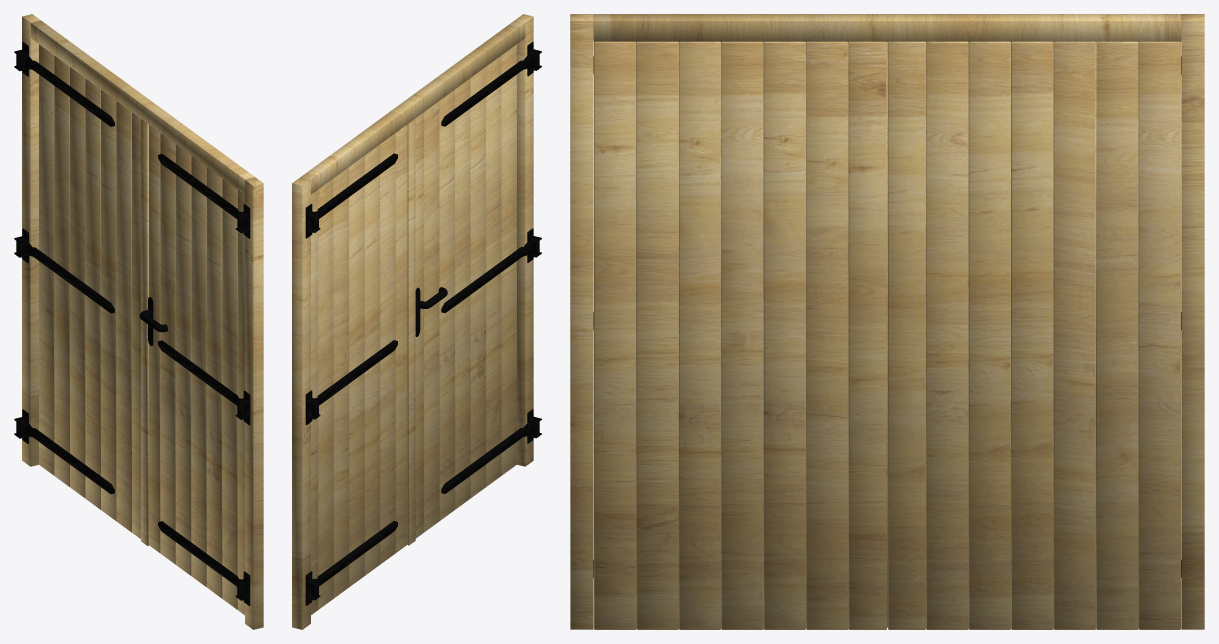
Rendered from door_double.glb.
3 views of the same model, side by side, from view 1: azimuth 30°, elevation 25°; view 2: azimuth 150°, elevation 25°; view 3: azimuth 270°, elevation 25° (orthographic). The views are drawn at different scales.
Parts seen in each view (by area): view 1: double_door_wood, double_door_hingles; view 2: double_door_wood, double_door_hingles; view 3: double_door_wood.
Boxes of the visible parts, x1,y1,x2,y2 form: double_door_wood: [22, 14, 263, 629]; double_door_hingles: [14, 42, 250, 605]; double_door_wood: [292, 14, 533, 629]; double_door_hingles: [305, 42, 541, 605]; double_door_wood: [570, 14, 1204, 629].
Bounding box in the file's own units: 0.0105 × 0.2012 × 0.1899.
2 materials, 1 textured.
